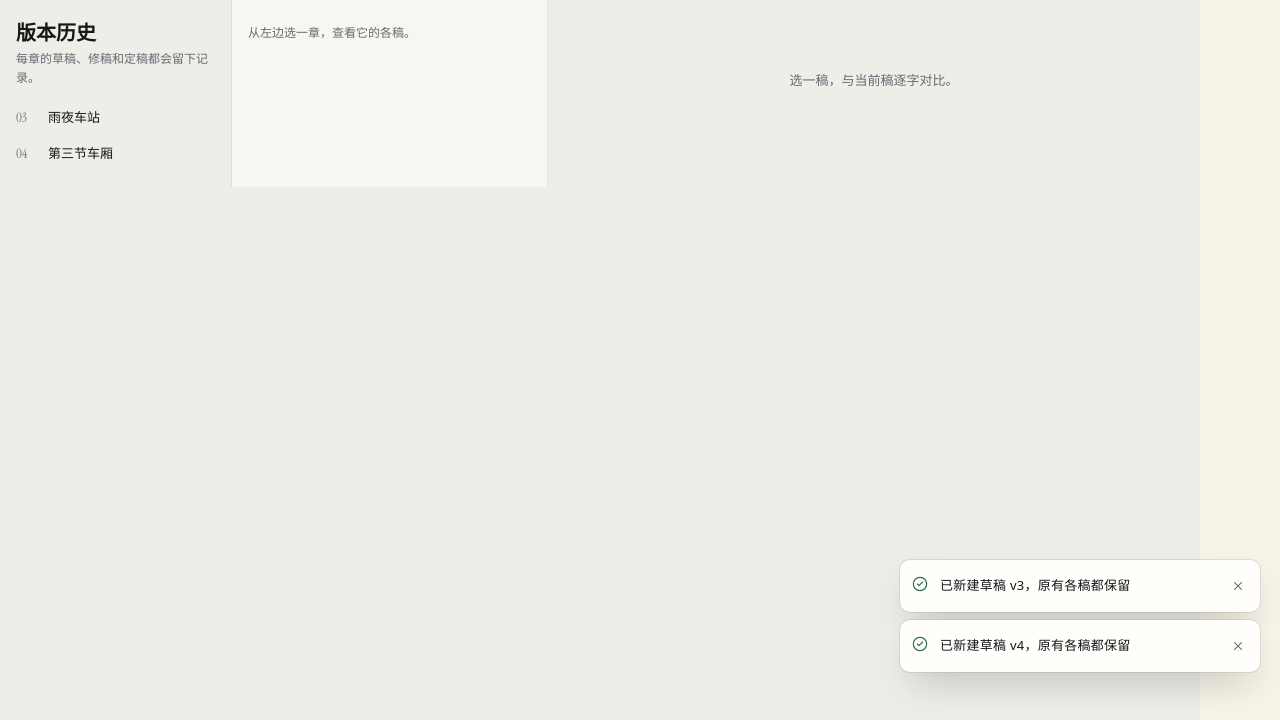
it: 版本历史 › 取消回退不写入任何稿
The width and height of the screenshot is (1280, 720).
Step 1. Click the button "03 雨夜车站" → (116, 117), box [8,99,223,135]
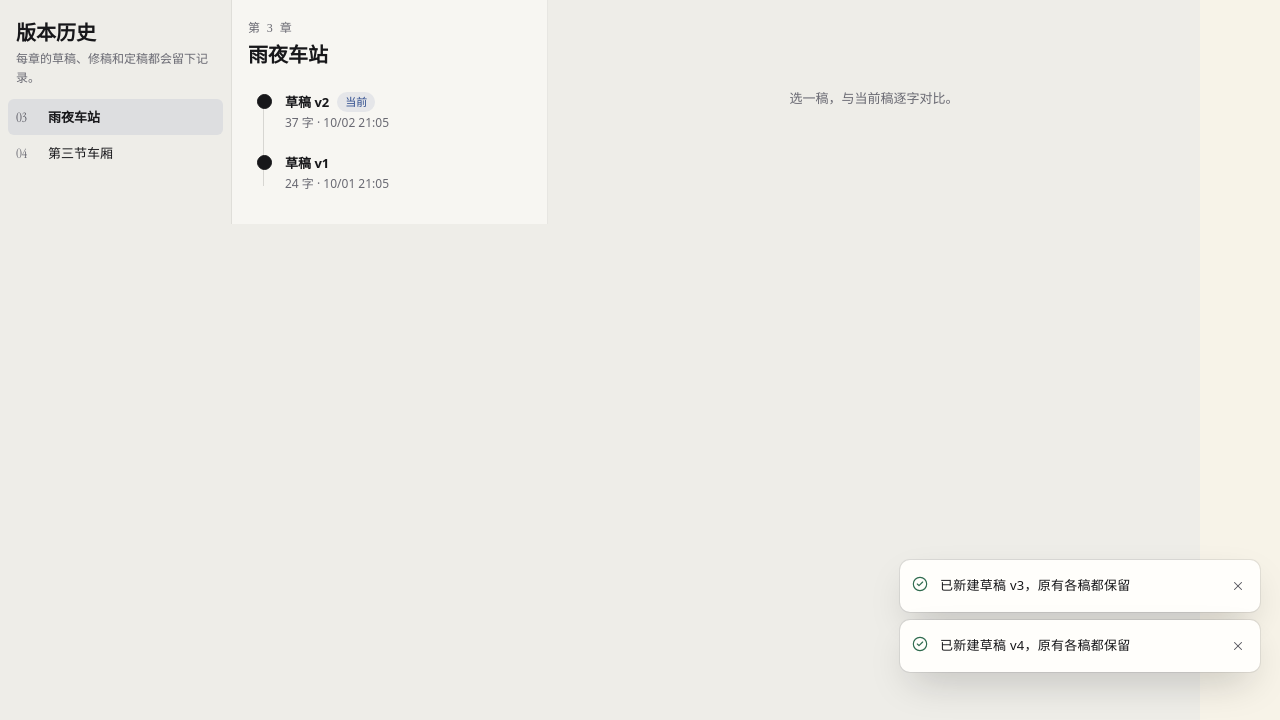
Expected: the button "草稿 v1 24 字 · 10/01 21:05" is shown
Step 2. Click the button "草稿 v1 24 字 · 10/01 21:05" → (390, 173), box [248,144,531,202]
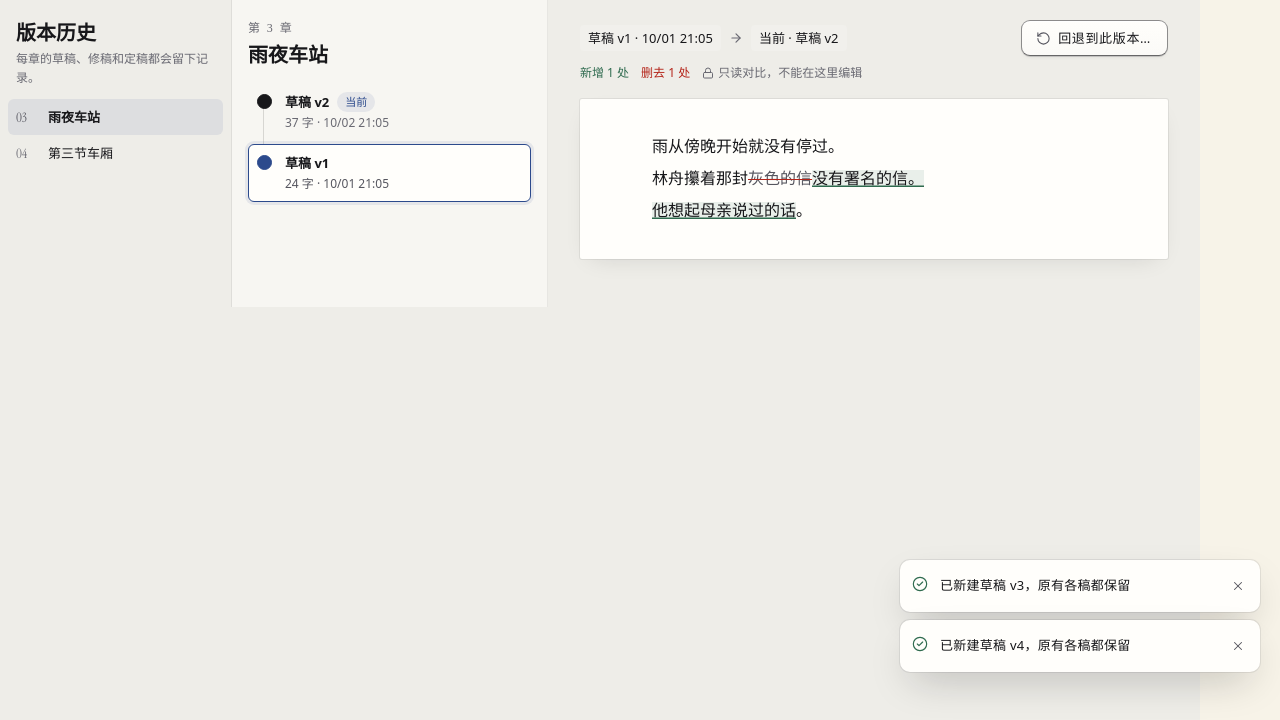
Expected: the button "回退到此版本…" is shown
Step 3. Click the button "回退到此版本…" → (1095, 38), box [1021,20,1168,56]
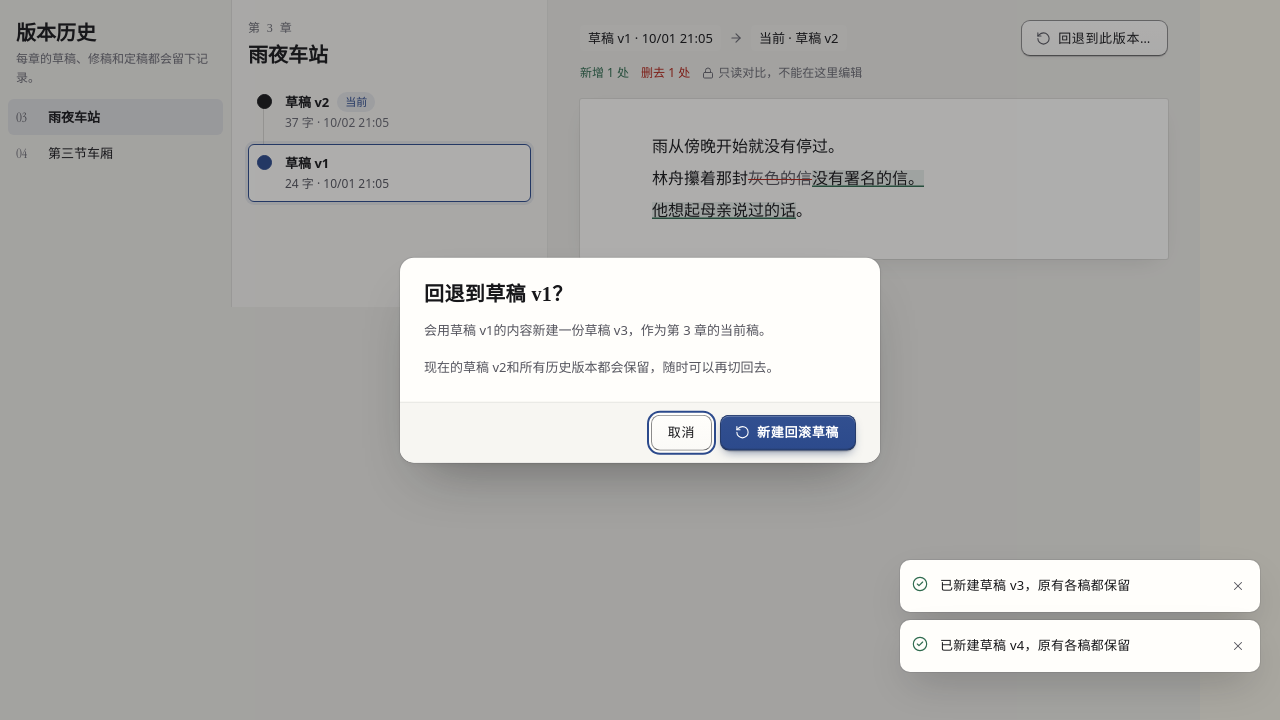
Expected: the button "取消" is shown
Step 4. Click the button "取消" → (681, 432), box [651,414,712,450]
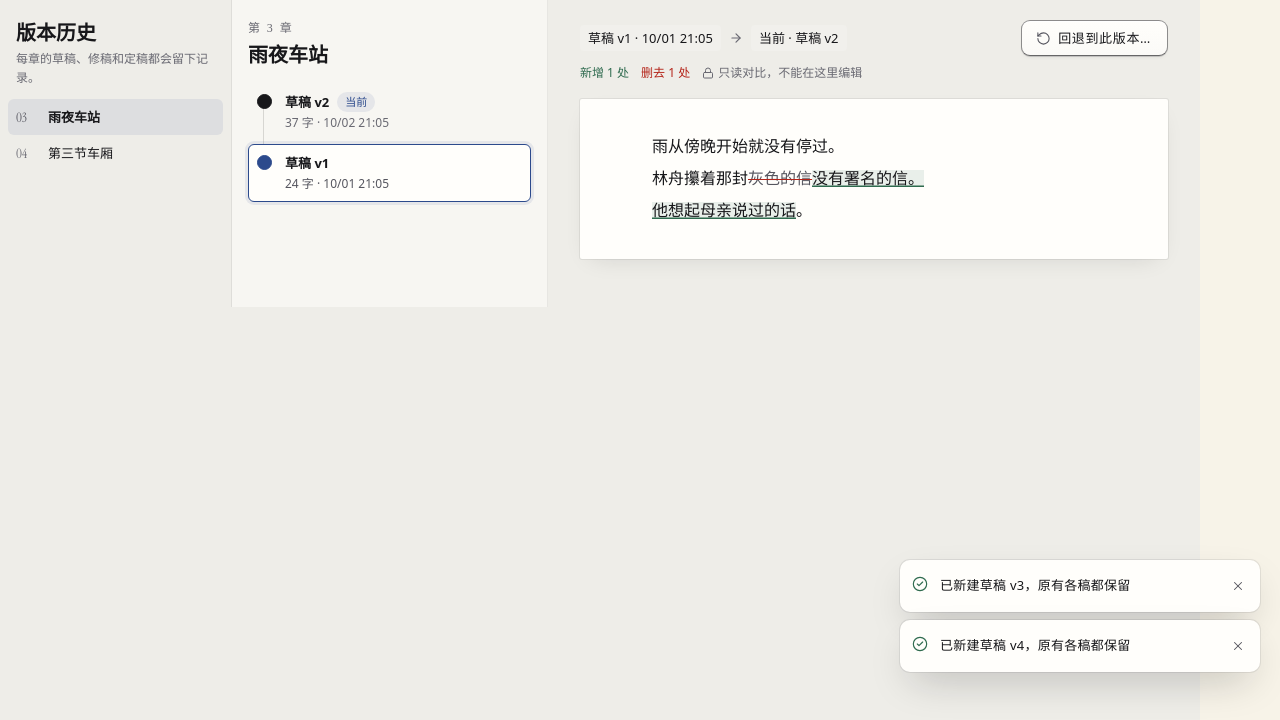
Expected: the dialog is gone
